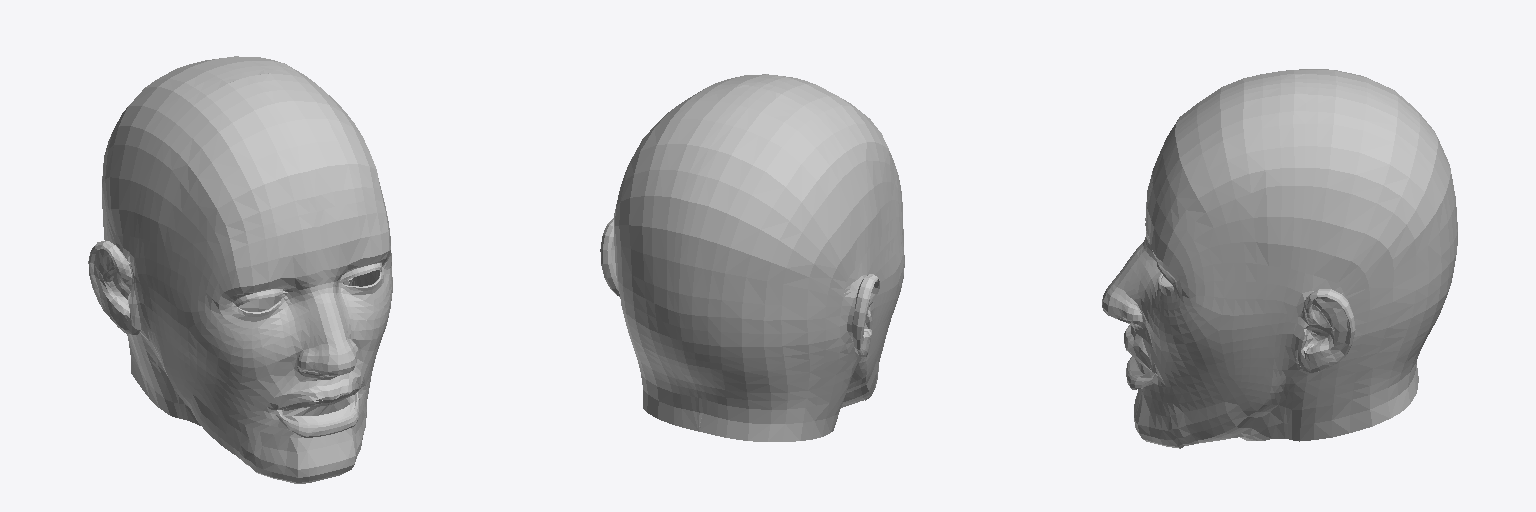
Rendered from eye.obj.
3 renders of one model, left to right at view 1: azimuth 30°, elevation 25°; view 2: azimuth 150°, elevation 25°; view 3: azimuth 270°, elevation 25°, orthographic.
Parts seen in each view (by area): view 1: Mesh_object0; view 2: Mesh_object0; view 3: Mesh_object0.
Boxes of the visible parts, x1,y1,x2,y2 form: Mesh_object0: [88, 56, 392, 483]; Mesh_object0: [600, 74, 904, 441]; Mesh_object0: [1102, 69, 1457, 448].
Bounding box in the file's own units: 30.6 × 38.16 × 35.42.